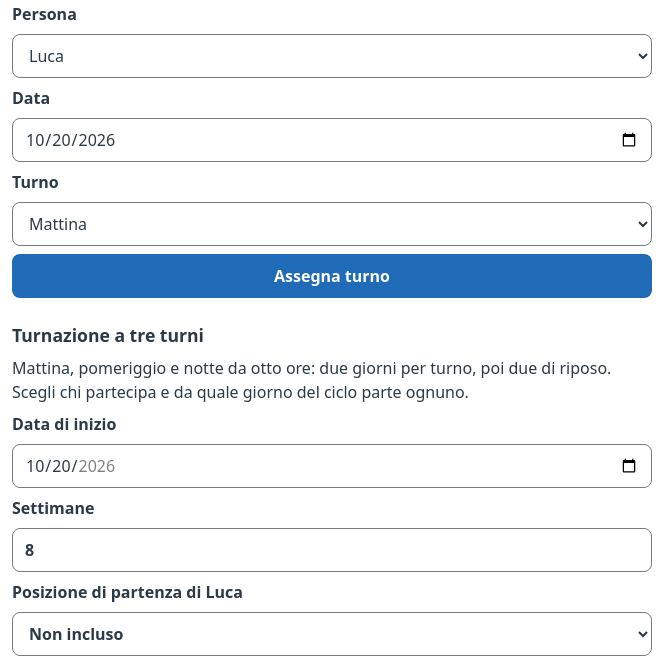
Test: refuses to generate over days where a picked person already has a shift
Select "1. Mattina" in the dropdown labelled "Posizione di partenza di Luca". click: (332, 634)
box: [12, 612, 652, 656]
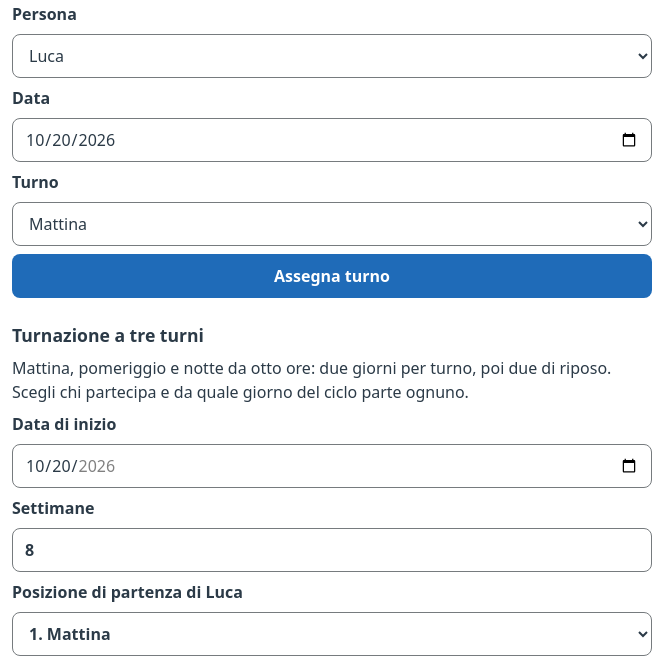
Type "2026-10-19" into the date field labelled "Data di inizio". click: (332, 466)
box: [12, 444, 652, 488]
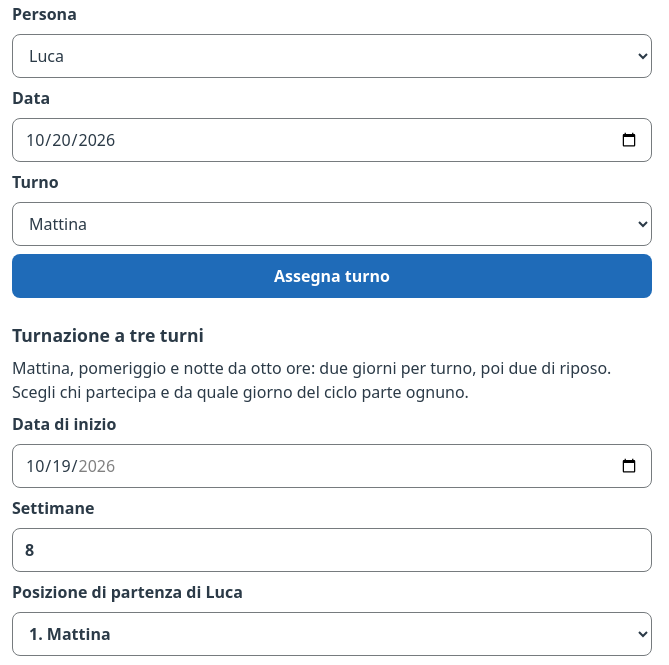
Replace the text in the number field labelled "Settimane" with "1". click: (332, 550)
box: [12, 528, 652, 572]
(page scrolled)
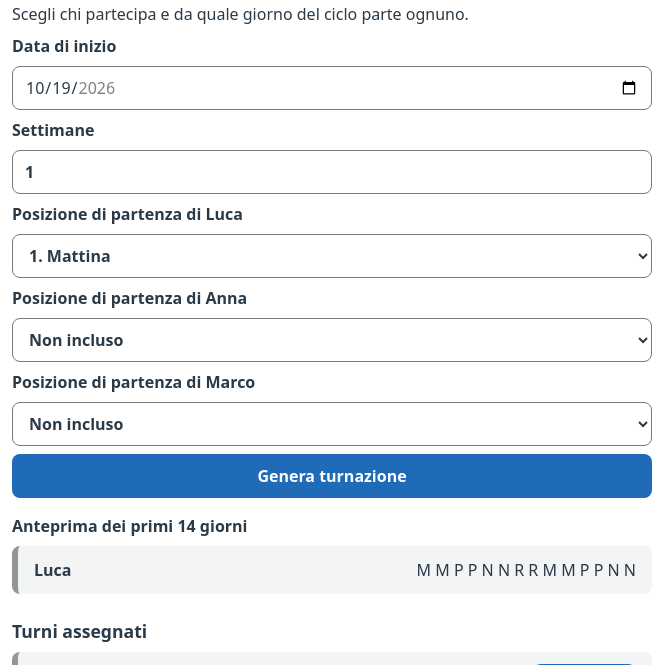
Click the button "Genera turnazione". click: (332, 476)
box: [12, 454, 652, 498]
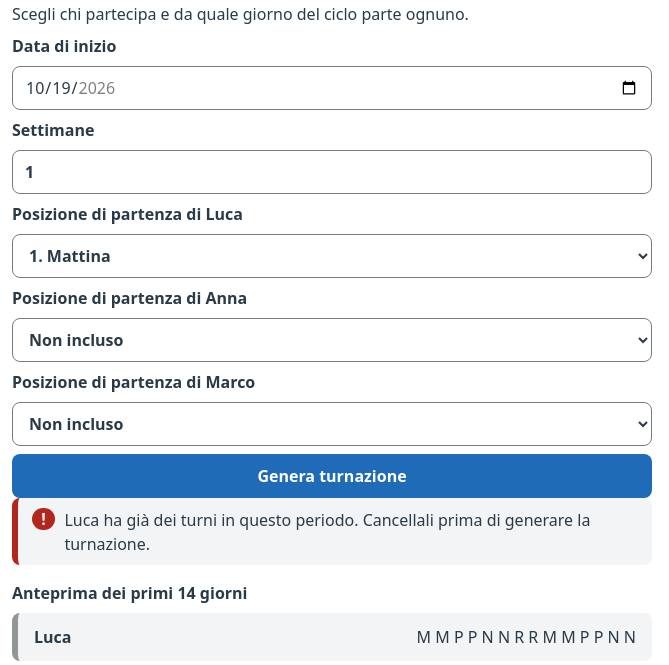
Expected: the message shows "Luca ha già dei turni", [64, 509, 590, 555]
